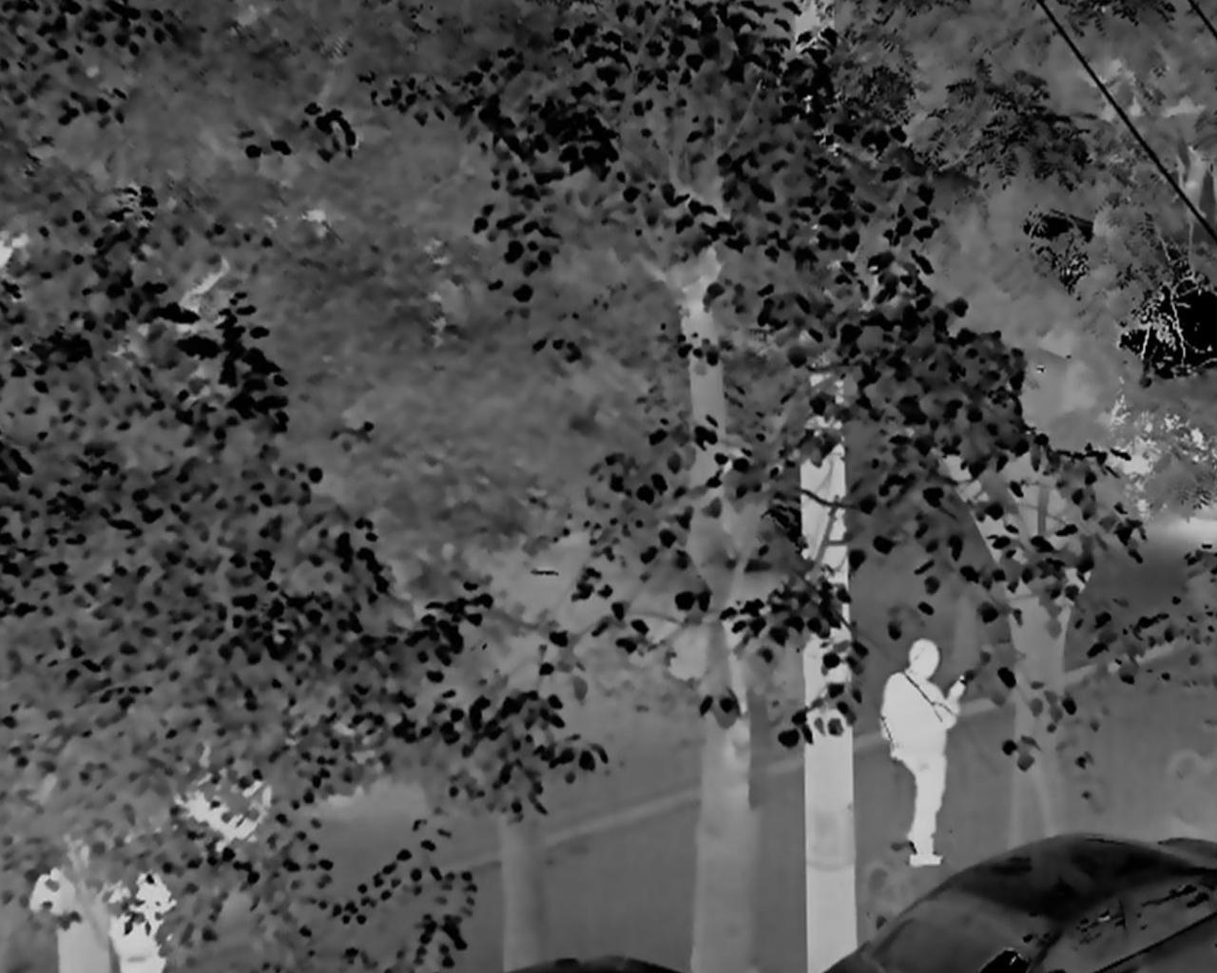person: (877, 638, 973, 868)
